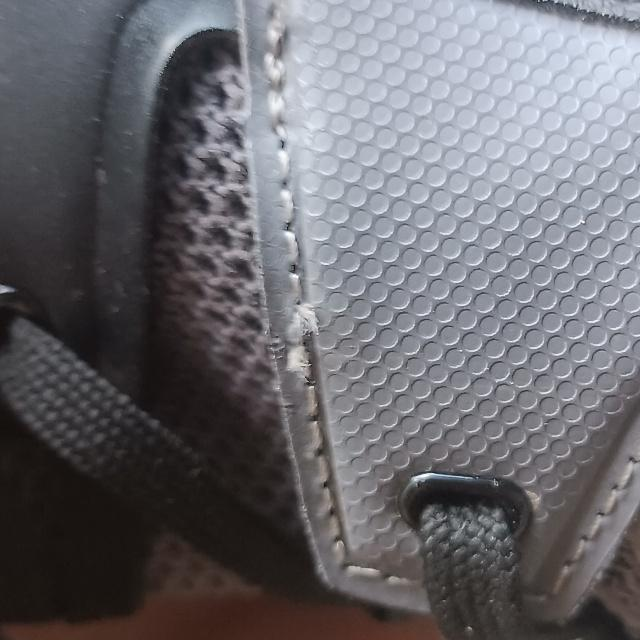broken-error: (278, 292, 320, 383)
